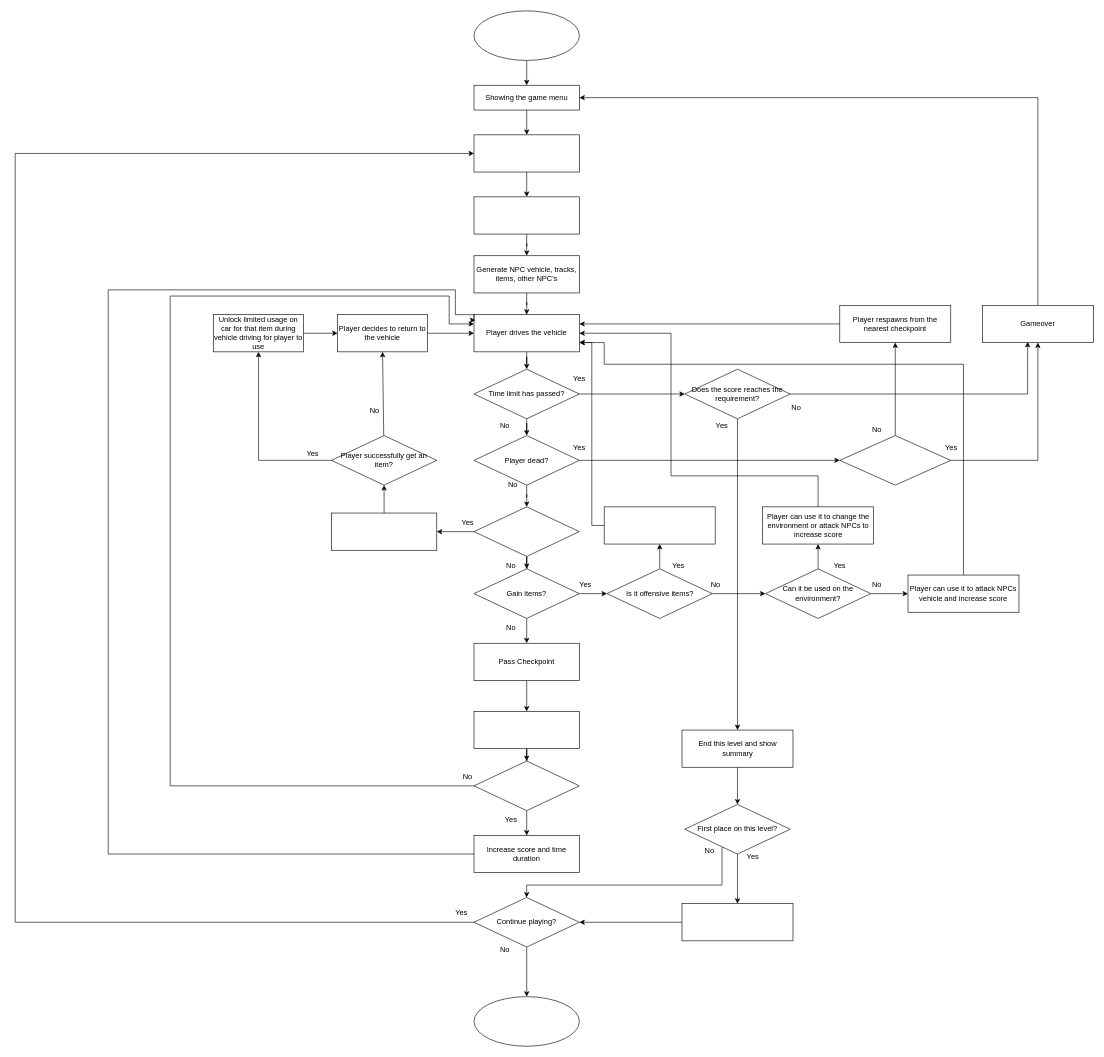
Some shapes in this 1104 by 1057 pixel diagram are drawn without their labels. The shapes that lost their labels are listed below. From the top down, each one's centre as x and y in pixels, then its label:
[526,35]: Start Game
[526,153]: Showing the vehicle selection menu, showing vehicle statistics.
[526,215]: Show level selection page
[895,460]: Death count exceed maximum?
[384,531]: Player is able to exit vehicle and search for items
[526,531]: Car stopped?
[659,525]: Player can use it on car to increase it's duration or speed
[526,730]: Increase time duration
[526,785]: Passed a loop?
[737,922]: Unlocks new vehicle of that stage if it is not been unlocked
[526,1021]: Press the quit game button the exit the game and return to homepage
